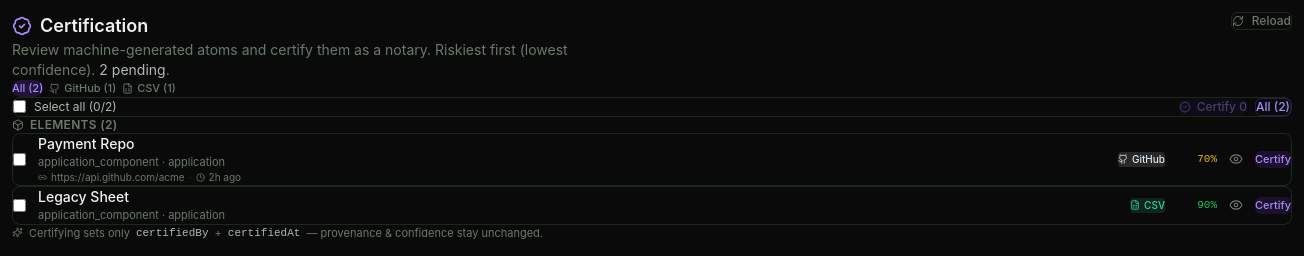
CertificationQueue › REQ-3 — source filter chips narrow the queue to the chosen origin
Expected: the text "Payment Repo" is shown, [38,134,134,152]
Expected: the text "Legacy Sheet" is shown, [38,188,129,205]
# Chip "CSV (1)" filters to just the CSV atom.
Click the button "CSV (1)" at [149, 88], box [122,80,176,96]
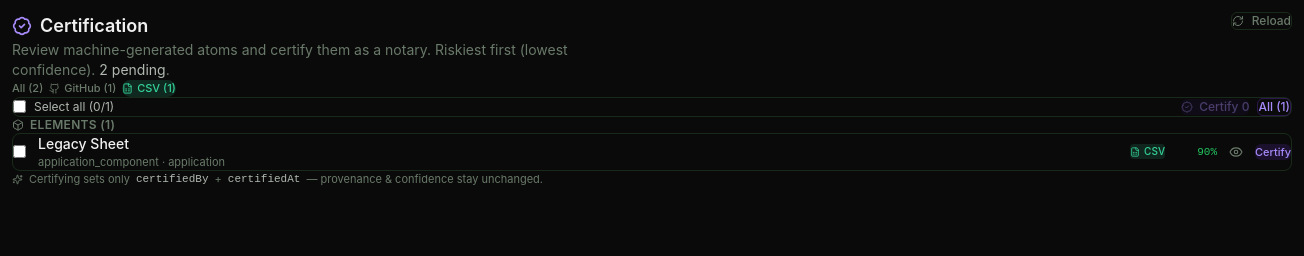
Expected: the text "Legacy Sheet" is shown, [38,134,129,152]
Now the text "Payment Repo" is gone
